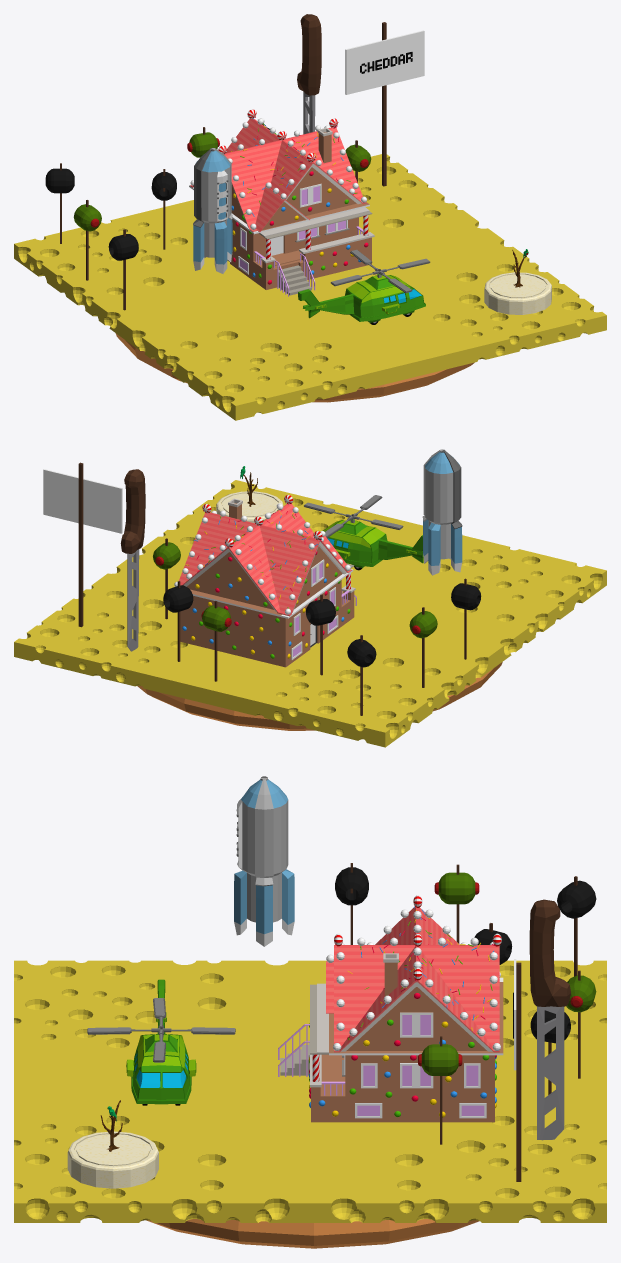
3 renders of one model, top to bottom at view 1: azimuth 30°, elevation 25°; view 2: azimuth 150°, elevation 25°; view 3: azimuth 270°, elevation 25°, orthographic. The views are drawn at different scales.
Visible parts, largest first — view 1: Cube.022, Cube.1203, OBJRANDOM_ROCKETSHIP, Cube.023, VEHICLES_HELICOPTER, Cylinder.016, Cube.024, UNDERGROUND_PIZZA, Sphere.017, Sphere.016, Sphere.020, Sphere.018 (+2 smaller); view 2: Cube.022, Cube.1203, Cube.023, OBJRANDOM_ROCKETSHIP, VEHICLES_HELICOPTER, Cube.024, UNDERGROUND_PIZZA, Cylinder.016, Sphere.021, Sphere.022, Sphere.017, Sphere.020 (+3 smaller); view 3: Cube.022, Cube.1203, OBJRANDOM_ROCKETSHIP, Cube.024, UNDERGROUND_PIZZA, VEHICLES_HELICOPTER, Cylinder.016, Cube.023, Sphere.016, Sphere.019, Sphere.018, Sphere.017 (+2 smaller).
Boxes of the visible parts, bbox=[...] form: Cube.022: bbox=[14, 154, 606, 420]; Cube.1203: bbox=[189, 109, 374, 296]; OBJRANDOM_ROCKETSHIP: bbox=[193, 148, 232, 273]; Cube.023: bbox=[345, 22, 424, 186]; VEHICLES_HELICOPTER: bbox=[298, 249, 430, 324]; Cylinder.016: bbox=[484, 272, 551, 314]; Cube.024: bbox=[297, 14, 321, 134]; UNDERGROUND_PIZZA: bbox=[115, 333, 474, 402]; Sphere.017: bbox=[108, 229, 138, 310]; Sphere.016: bbox=[45, 163, 74, 243]; Sphere.020: bbox=[151, 169, 176, 249]; Sphere.018: bbox=[73, 200, 101, 280]; Cube.022: bbox=[14, 480, 606, 747]; Cube.1203: bbox=[174, 495, 356, 667]; Cube.023: bbox=[43, 462, 122, 627]; OBJRANDOM_ROCKETSHIP: bbox=[422, 449, 462, 575]; VEHICLES_HELICOPTER: bbox=[304, 495, 423, 570]; Cube.024: bbox=[120, 469, 145, 651]; UNDERGROUND_PIZZA: bbox=[137, 662, 502, 730]; Cylinder.016: bbox=[216, 491, 283, 523]; Sphere.021: bbox=[163, 581, 193, 661]; Sphere.022: bbox=[201, 601, 231, 681]; Sphere.017: bbox=[451, 578, 481, 659]; Sphere.020: bbox=[306, 594, 335, 675]; Cube.022: bbox=[14, 960, 606, 1222]; Cube.1203: bbox=[278, 895, 503, 1122]; OBJRANDOM_ROCKETSHIP: bbox=[234, 776, 294, 946]; Cube.024: bbox=[529, 899, 570, 1140]; UNDERGROUND_PIZZA: bbox=[146, 1219, 479, 1248]; VEHICLES_HELICOPTER: bbox=[87, 979, 235, 1105]; Cylinder.016: bbox=[67, 1131, 158, 1188]; Cube.023: bbox=[513, 959, 521, 1181]; Sphere.016: bbox=[557, 876, 596, 976]; Sphere.019: bbox=[418, 1036, 462, 1144]; Sphere.018: bbox=[434, 864, 479, 943]; Sphere.017: bbox=[335, 863, 368, 944].
Size of the model in its own units: 3917 by 2219 by 4000.
Materials: 51 (4 with a texture image).
